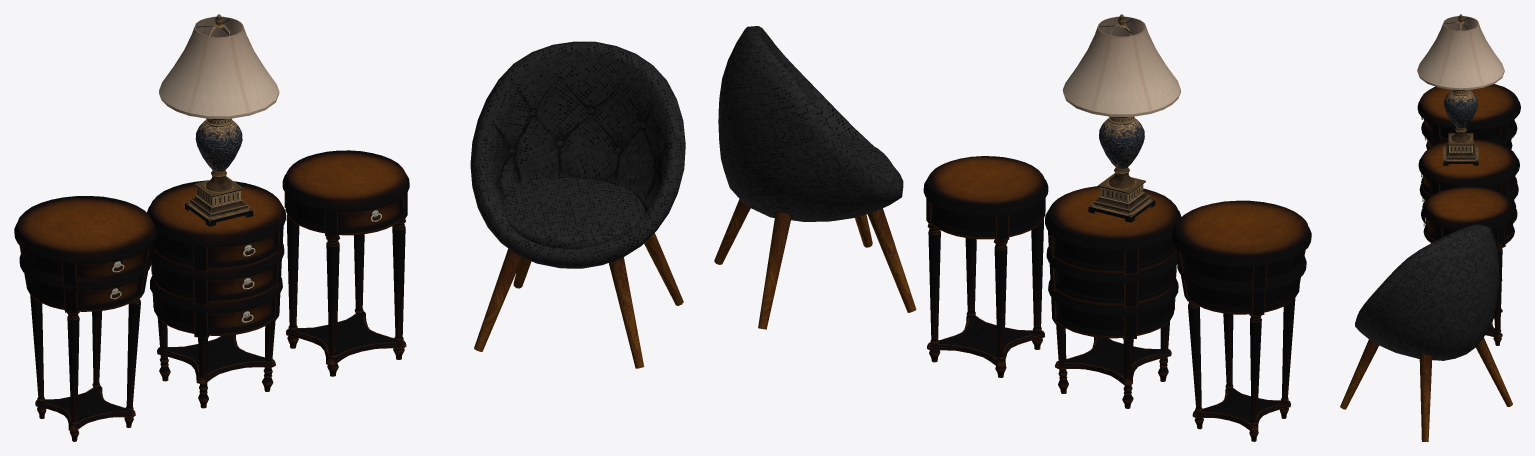
3 renders of one model, left to right at view 1: azimuth 30°, elevation 25°; view 2: azimuth 150°, elevation 25°; view 3: azimuth 270°, elevation 25°, orthographic. The views are drawn at different scales.
Visible parts, largest first — view 1: endtable1 top _low_endtable1_0, chairlegs_low.001_chair1_0, lampscrew_low.001_lamp01_0; view 2: endtable1 top _low_endtable1_0, chairlegs_low.001_chair1_0, lampscrew_low.001_lamp01_0; view 3: chairlegs_low.001_chair1_0, endtable1 top _low_endtable1_0, lampscrew_low.001_lamp01_0.
Part boxes in pixels (box(x1,y1,x2,y2)): endtable1 top _low_endtable1_0: box(14, 150, 409, 441); chairlegs_low.001_chair1_0: box(470, 41, 685, 368); lampscrew_low.001_lamp01_0: box(159, 14, 279, 226); endtable1 top _low_endtable1_0: box(923, 156, 1311, 441); chairlegs_low.001_chair1_0: box(714, 26, 916, 329); lampscrew_low.001_lamp01_0: box(1063, 14, 1180, 222); chairlegs_low.001_chair1_0: box(1340, 224, 1512, 441); endtable1 top _low_endtable1_0: box(1417, 84, 1520, 345); lampscrew_low.001_lamp01_0: box(1417, 14, 1504, 165).
Bounding box in the file's own units: 2.87 × 1.66 × 0.9843.
Materials: 3 (3 with a texture image).
